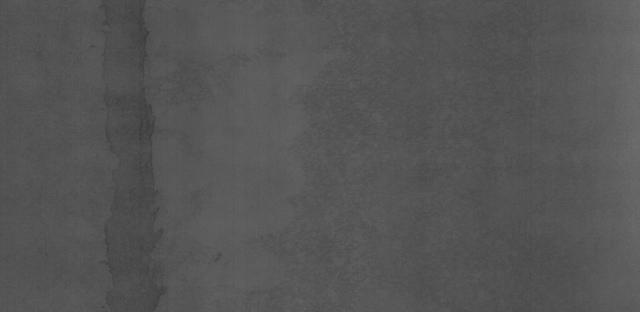water_spot: (90, 2, 193, 305)
